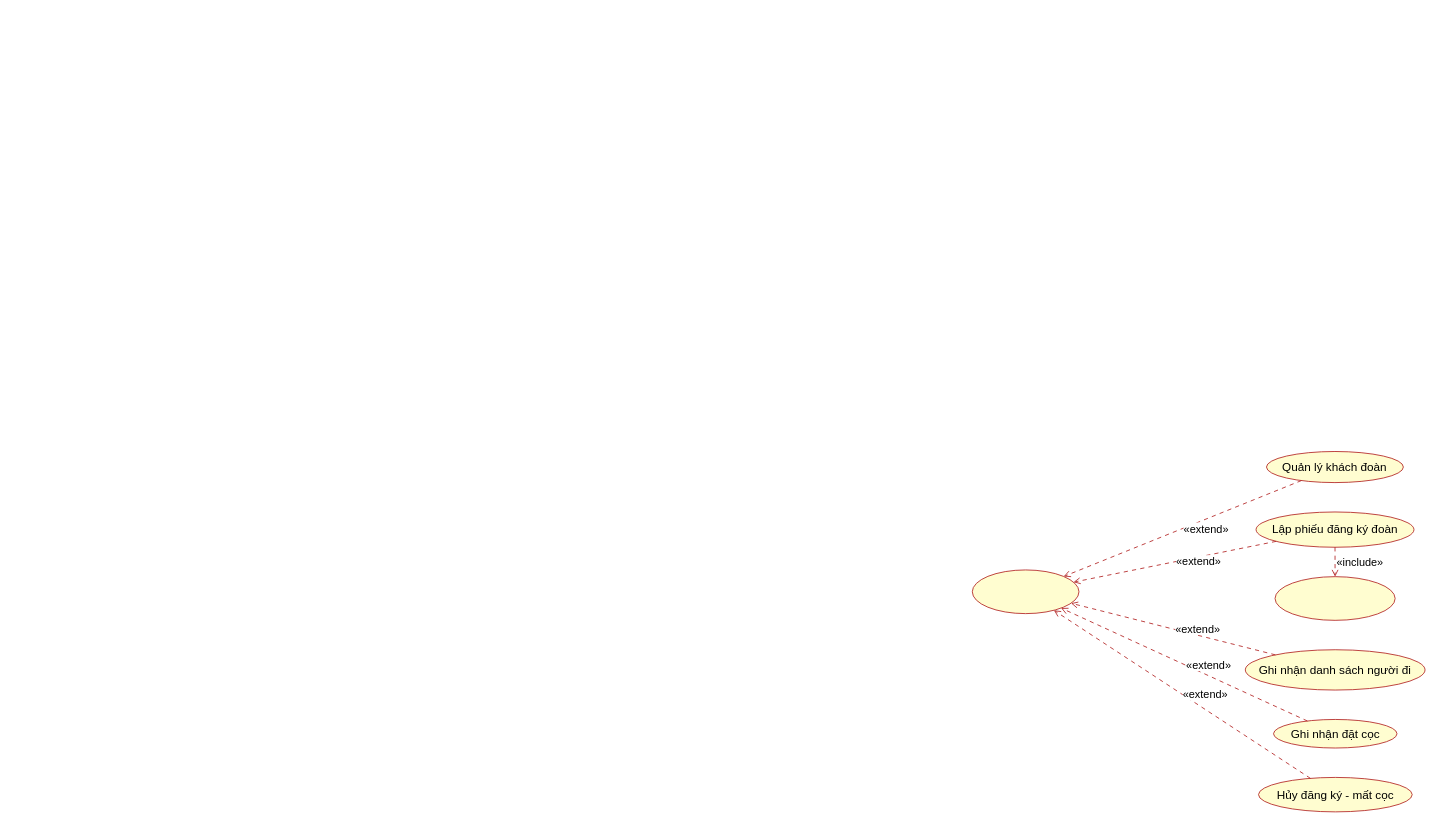
Image size: 1440x827. Some labels were removed from this diagram. Here are the shapes that lost their labels. From the top down, the centre of each, then its label:
At (x=1025, y=591): "Đăng ký tour theo đoàn".
At (x=1334, y=598): "Kiểm tra tour, ngày đi hợp lệ".
